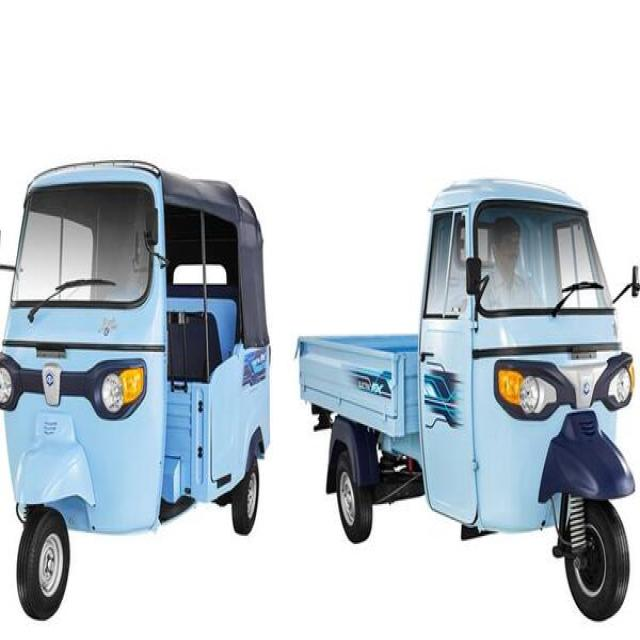autorickshaw: (296, 180, 636, 623), (0, 161, 270, 618)
